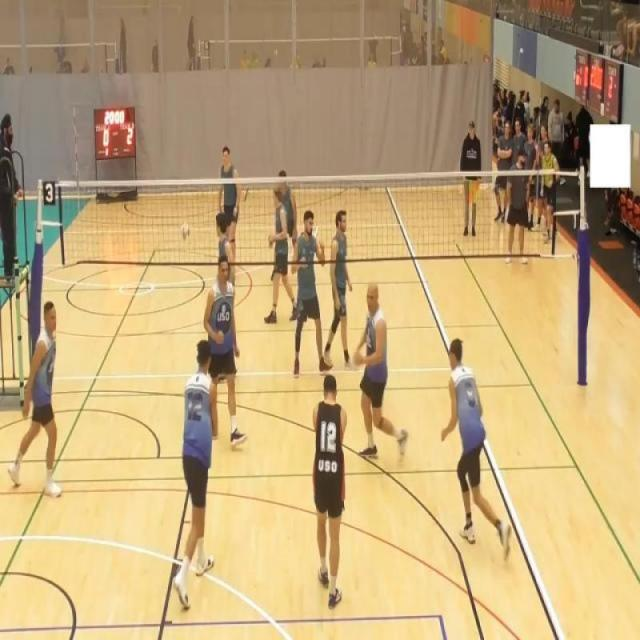volleyball: (180, 222, 190, 241), (274, 48, 278, 58)
